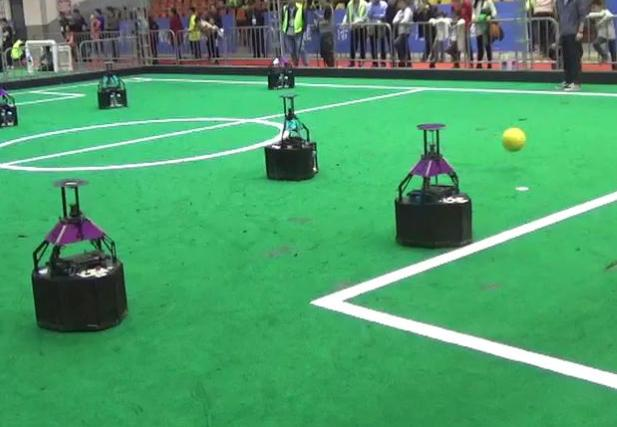robot: (29, 179, 130, 333), (388, 123, 478, 249), (260, 92, 323, 182), (95, 59, 132, 112)
